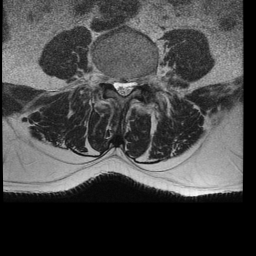CCS_normal: (119, 71, 126, 102)
LFS_normal: (136, 69, 144, 91)
LLS_normal: (126, 71, 136, 98)
RFS_normal: (105, 65, 113, 91)
RLS_normal: (113, 70, 119, 98)
